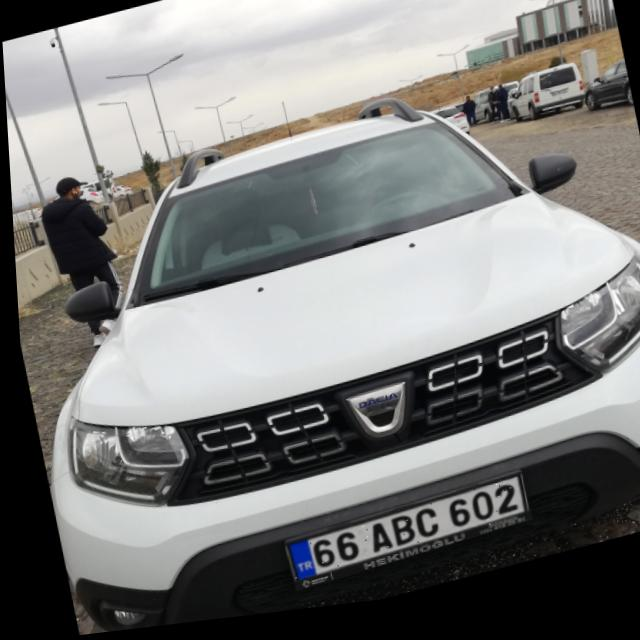license_plate: (275, 489, 524, 589)
